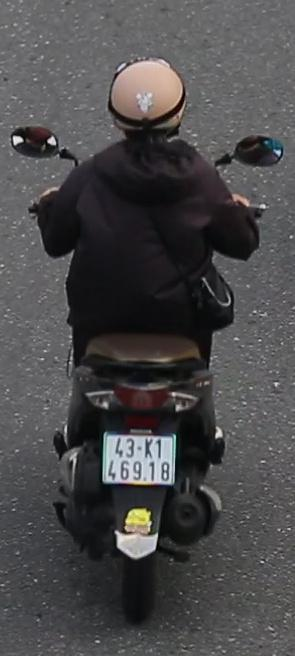LP: (95, 427, 183, 488)
helmet: (105, 49, 193, 144)
